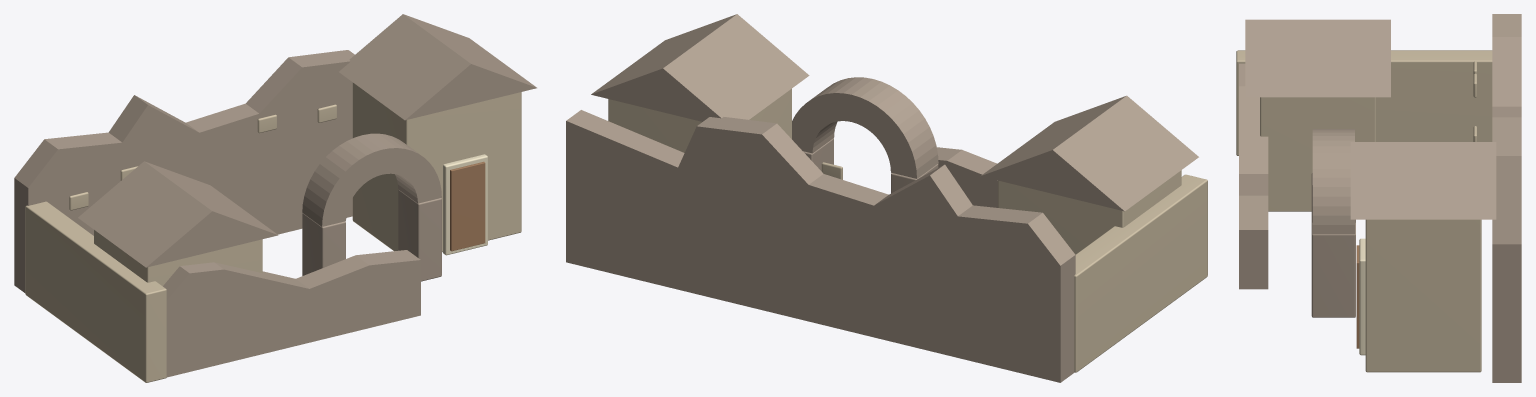
File: asset03.glb
3 views of the same model, side by side, from view 1: azimuth 30°, elevation 25°; view 2: azimuth 150°, elevation 25°; view 3: azimuth 270°, elevation 25° (orthographic). The views are drawn at different scales.
Visible parts, largest first — view 1: 03_historic_ruins; view 2: 03_historic_ruins; view 3: 03_historic_ruins.
Boxes of the visible parts, bbox=[...] form: 03_historic_ruins: bbox=[14, 14, 536, 382]; 03_historic_ruins: bbox=[566, 14, 1207, 382]; 03_historic_ruins: bbox=[1236, 14, 1521, 382].
Size of the model in its own units: 1 by 0.3981 by 0.508.
